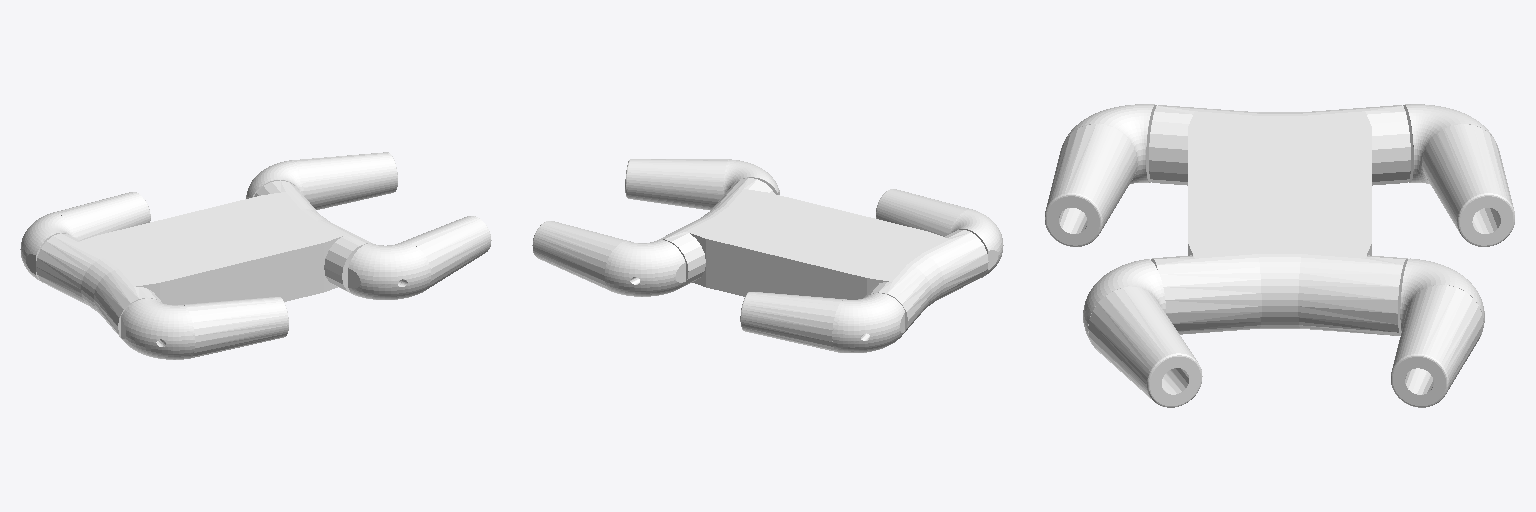
URDF robot description (10_degree):
<?xml version="1.0" encoding="utf-8"?>
<!-- This URDF was automatically created by SolidWorks to URDF Exporter! Originally created by [author] ([email redacted]) 
     Commit Version: 1.5.1-0-g916b5db  Build Version: 1.5.7152.31018
     For more information, please see http://wiki.ros.org/sw_urdf_exporter -->
<robot
  name="10_degree">
  <link
    name="base_link">
    <inertial>
      <origin
        xyz="3.4694E-17 2.5386E-08 5.2042E-18"
        rpy="0 0 0" />
      <mass
        value="2.942" />
      <inertia
        ixx="0.0101715"
        ixy="1.9058E-18"
        ixz="-1.5243E-10"
        iyy="0.0411603"
        iyz="1.5731E-19"
        izz="0.0489398" />
    </inertial>
    <visual>
      <origin
        xyz="0 0 0"
        rpy="0 0 0" />
      <geometry>
        <mesh
          filename="package://10_degree/meshes/base_link.STL" />
      </geometry>
      <material
        name="">
        <color
          rgba="1 1 1 1" />
      </material>
    </visual>
    <collision>
      <origin
        xyz="0 0 0"
        rpy="0 0 0" />
      <geometry>
        <mesh
          filename="package://10_degree/meshes/base_link.STL" />
      </geometry>
    </collision>
  </link>
  <link
    name="left_front_link">
    <inertial>
      <origin
        xyz="-2.4436E-08 0.05683 -0.036011"
        rpy="0 0 0" />
      <mass
        value="0.092" />
      <inertia
        ixx="0.0002604"
        ixy="5.6488E-10"
        ixz="9.186E-10"
        iyy="0.0000526"
        iyz="2.27E-05"
        izz="0.0002575" />
    </inertial>
    <visual>
      <origin
        xyz="0 0 0"
        rpy="0 0 0" />
      <geometry>
        <mesh
          filename="package://10_degree/meshes/left_front_link.STL" />
      </geometry>
      <material
        name="">
        <color
          rgba="1 1 1 1" />
      </material>
    </visual>
    <collision>
      <origin
        xyz="0 0 0"
        rpy="0 0 0" />
      <geometry>
        <mesh
          filename="package://10_degree/meshes/left_front_link.STL" />
      </geometry>
    </collision>
  </link>
  <joint
    name="left_front_leg"
    type="continuous">
    <origin
      xyz="0.14789 0.10144 0"
      rpy="1.7453 1.5708 0" />
    <parent
      link="base_link" />
    <child
      link="left_front_link" />
    <axis
      xyz="0 0 -1" />
    <limit
      effort="5"
      velocity="487" />
  </joint>
  <link
    name="right_front_link">
    <inertial>
      <origin
        xyz="2.4436E-08 0.05683 0.036011"
        rpy="0 0 0" />
      <mass
        value="0.092" />
      <inertia
        ixx="0.0002604"
        ixy="-5.6488E-10"
        ixz="9.186E-10"
        iyy="0.0000526"
        iyz="-2.27E-05"
        izz="0.0002575" />
    </inertial>
    <visual>
      <origin
        xyz="0 0 0"
        rpy="0 0 0" />
      <geometry>
        <mesh
          filename="package://10_degree/meshes/right_front_link.STL" />
      </geometry>
      <material
        name="">
        <color
          rgba="1 1 1 1" />
      </material>
    </visual>
    <collision>
      <origin
        xyz="0 0 0"
        rpy="0 0 0" />
      <geometry>
        <mesh
          filename="package://10_degree/meshes/right_front_link.STL" />
      </geometry>
    </collision>
  </link>
  <joint
    name="right_front_leg"
    type="continuous">
    <origin
      xyz="0.14789 -0.10144 0"
      rpy="1.3963 1.5708 0" />
    <parent
      link="base_link" />
    <child
      link="right_front_link" />
    <axis
      xyz="0 0 1" />
    <limit
      effort="5"
      velocity="487" />
  </joint>
  <link
    name="right_back_link">
    <inertial>
      <origin
        xyz="5.7759E-09 0.05683 0.03601"
        rpy="0 0 0" />
      <mass
        value="0.092" />
      <inertia
        ixx="0.0002604"
        ixy="-5.3462E-10"
        ixz="5.876E-10"
        iyy="0.0000526"
        iyz="-2.27E-05"
        izz="0.0002575" />
    </inertial>
    <visual>
      <origin
        xyz="0 0 0"
        rpy="0 0 0" />
      <geometry>
        <mesh
          filename="package://10_degree/meshes/right_back_link.STL" />
      </geometry>
      <material
        name="">
        <color
          rgba="1 1 1 1" />
      </material>
    </visual>
    <collision>
      <origin
        xyz="0 0 0"
        rpy="0 0 0" />
      <geometry>
        <mesh
          filename="package://10_degree/meshes/right_back_link.STL" />
      </geometry>
    </collision>
  </link>
  <joint
    name="right_back_leg"
    type="continuous">
    <origin
      xyz="-0.14789 -0.10144 0"
      rpy="1.7453 1.5708 0" />
    <parent
      link="base_link" />
    <child
      link="right_back_link" />
    <axis
      xyz="0 0 1" />
    <limit
      effort="5"
      velocity="487" />
  </joint>
  <link
    name="left_back_link">
    <inertial>
      <origin
        xyz="-5.7759E-09 0.05683 -0.03601"
        rpy="0 0 0" />
      <mass
        value="0.092" />
      <inertia
        ixx="0.0002604"
        ixy="5.3462E-10"
        ixz="5.876E-10"
        iyy="0.0000526"
        iyz="2.27E-05"
        izz="0.0002575" />
    </inertial>
    <visual>
      <origin
        xyz="0 0 0"
        rpy="0 0 0" />
      <geometry>
        <mesh
          filename="package://10_degree/meshes/left_back_link.STL" />
      </geometry>
      <material
        name="">
        <color
          rgba="1 1 1 1" />
      </material>
    </visual>
    <collision>
      <origin
        xyz="0 0 0"
        rpy="0 0 0" />
      <geometry>
        <mesh
          filename="package://10_degree/meshes/left_back_link.STL" />
      </geometry>
    </collision>
  </link>
  <joint
    name="left_back_leg"
    type="continuous">
    <origin
      xyz="-0.14789 0.10144 0"
      rpy="1.3963 1.5708 0" />
    <parent
      link="base_link" />
    <child
      link="left_back_link" />
    <axis
      xyz="0 0 -1" />
    <limit
      effort="5"
      velocity="487" />
  </joint>
</robot>

--- What the picture shows (computed from the rendered views, not written in the file) ---
3 views of the same robot in one strip: view 1: azimuth 30°, elevation 25°; view 2: azimuth 150°, elevation 25°; view 3: azimuth 270°, elevation 25° (orthographic).
Robot: 10_degree — 5 links, 4 joints (4 continuous); root link base_link; default pose: every joint at zero.
Visible links, largest first — view 1: base_link, right_back_link, right_front_link, left_front_link, left_back_link; view 2: base_link, left_back_link, left_front_link, right_front_link, right_back_link; view 3: base_link, right_front_link, right_back_link, left_back_link, left_front_link.
Boxes of the visible links, box(x1,y1,x2,y2) form: base_link: box(36, 180, 372, 337); right_back_link: box(121, 297, 288, 359); right_front_link: box(348, 216, 491, 299); left_front_link: box(246, 152, 397, 209); left_back_link: box(20, 192, 150, 282); base_link: box(659, 178, 988, 331); left_back_link: box(740, 292, 904, 352); left_front_link: box(532, 221, 685, 296); right_front_link: box(625, 159, 779, 210); right_back_link: box(876, 189, 1003, 277); base_link: box(1149, 105, 1410, 335); right_front_link: box(1083, 259, 1202, 407); right_back_link: box(1045, 104, 1156, 246); left_back_link: box(1403, 104, 1514, 246); left_front_link: box(1391, 258, 1484, 407).
Size in the robot's own frame: 0.4983 by 0.3838 by 0.064 metres.
Meshes: 5 distinct files referenced, 5 mesh visuals loaded (5 binary STL).